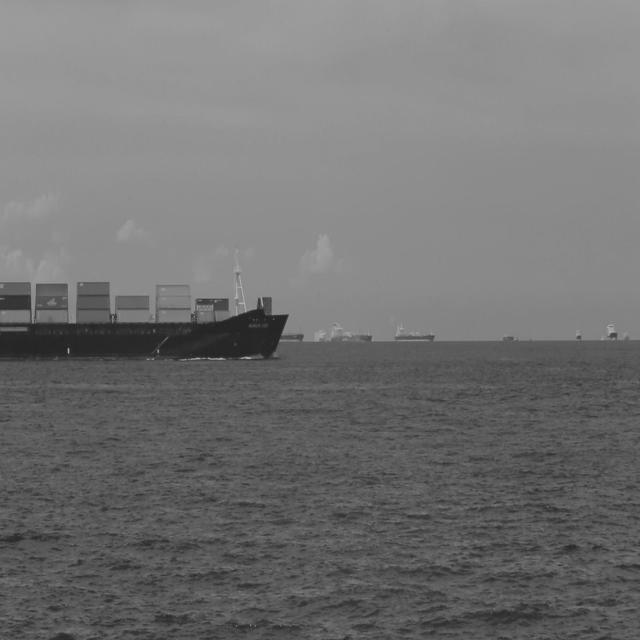ship: (0, 248, 291, 362), (394, 316, 438, 342), (331, 318, 378, 342), (278, 327, 308, 344)
